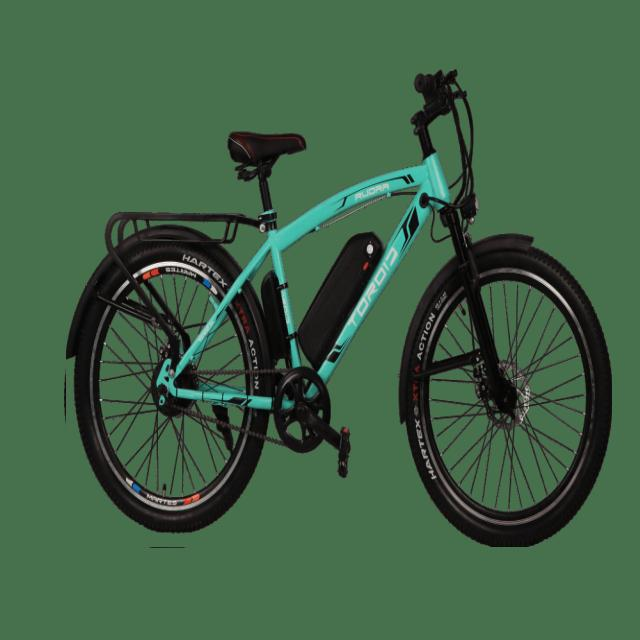bicycle: (66, 70, 611, 547)
